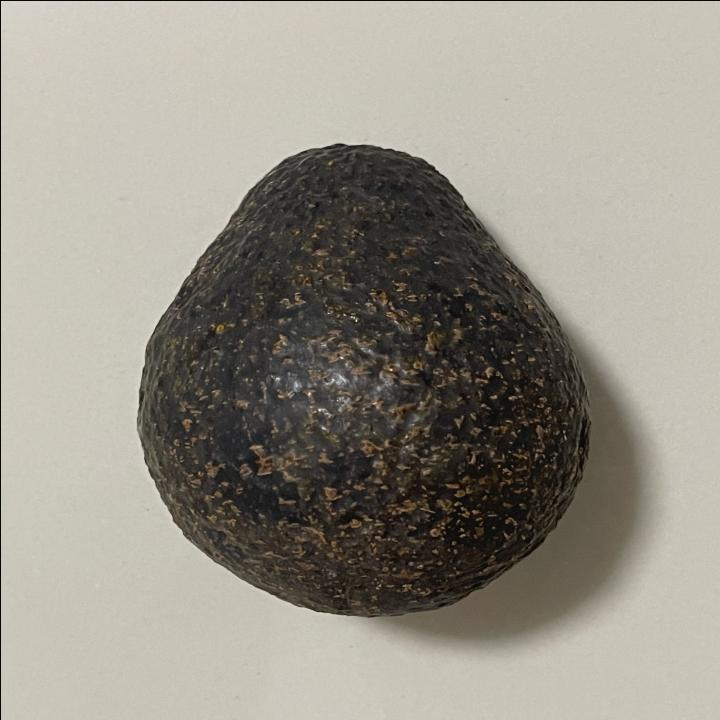Level1: (118, 125, 606, 626)
